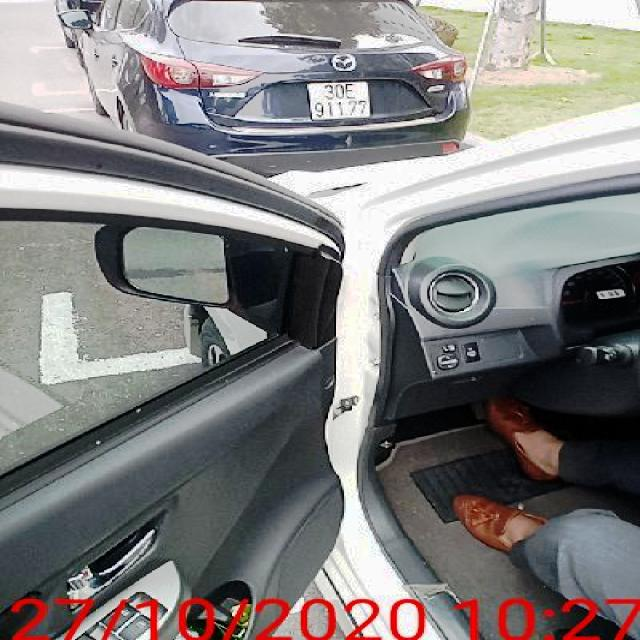license_plate: (309, 82, 374, 122)
